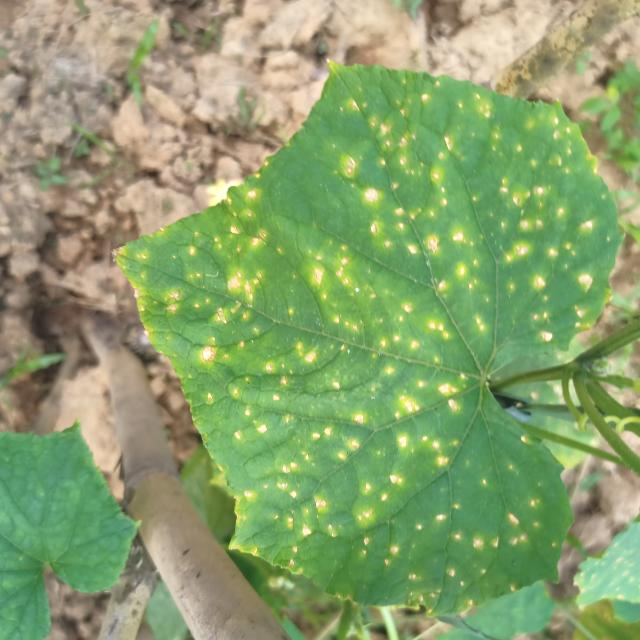disease_cucumber: (142, 77, 608, 599)
